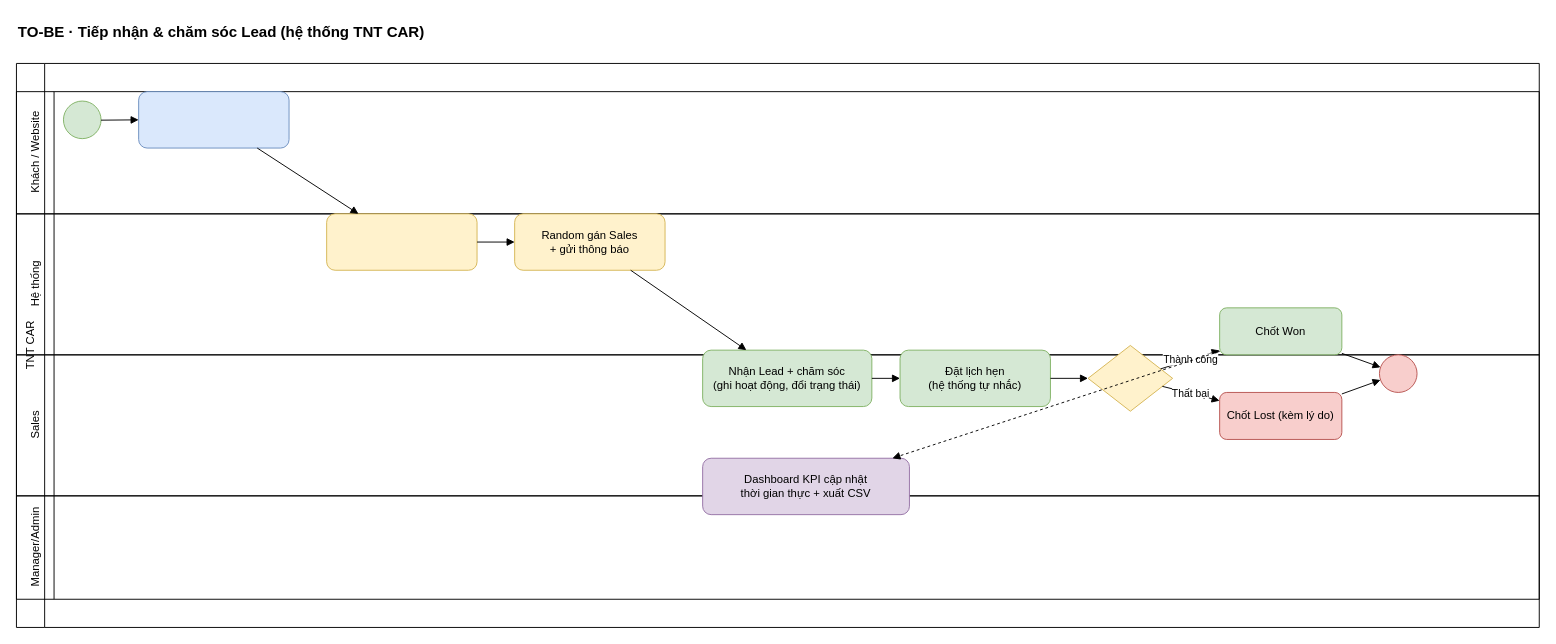
Image size: 1556x644. Some labels were removed from this diagram. The shapes that lost their labels are listed below. From the top down, each one's centre as x and y in pixels, then its label:
At point (213, 119): "Điền form đăng ký trên website".
At point (401, 241): "Tạo Lead tự động (nguồn Website)".
At point (1130, 378): "Kết quả?".
